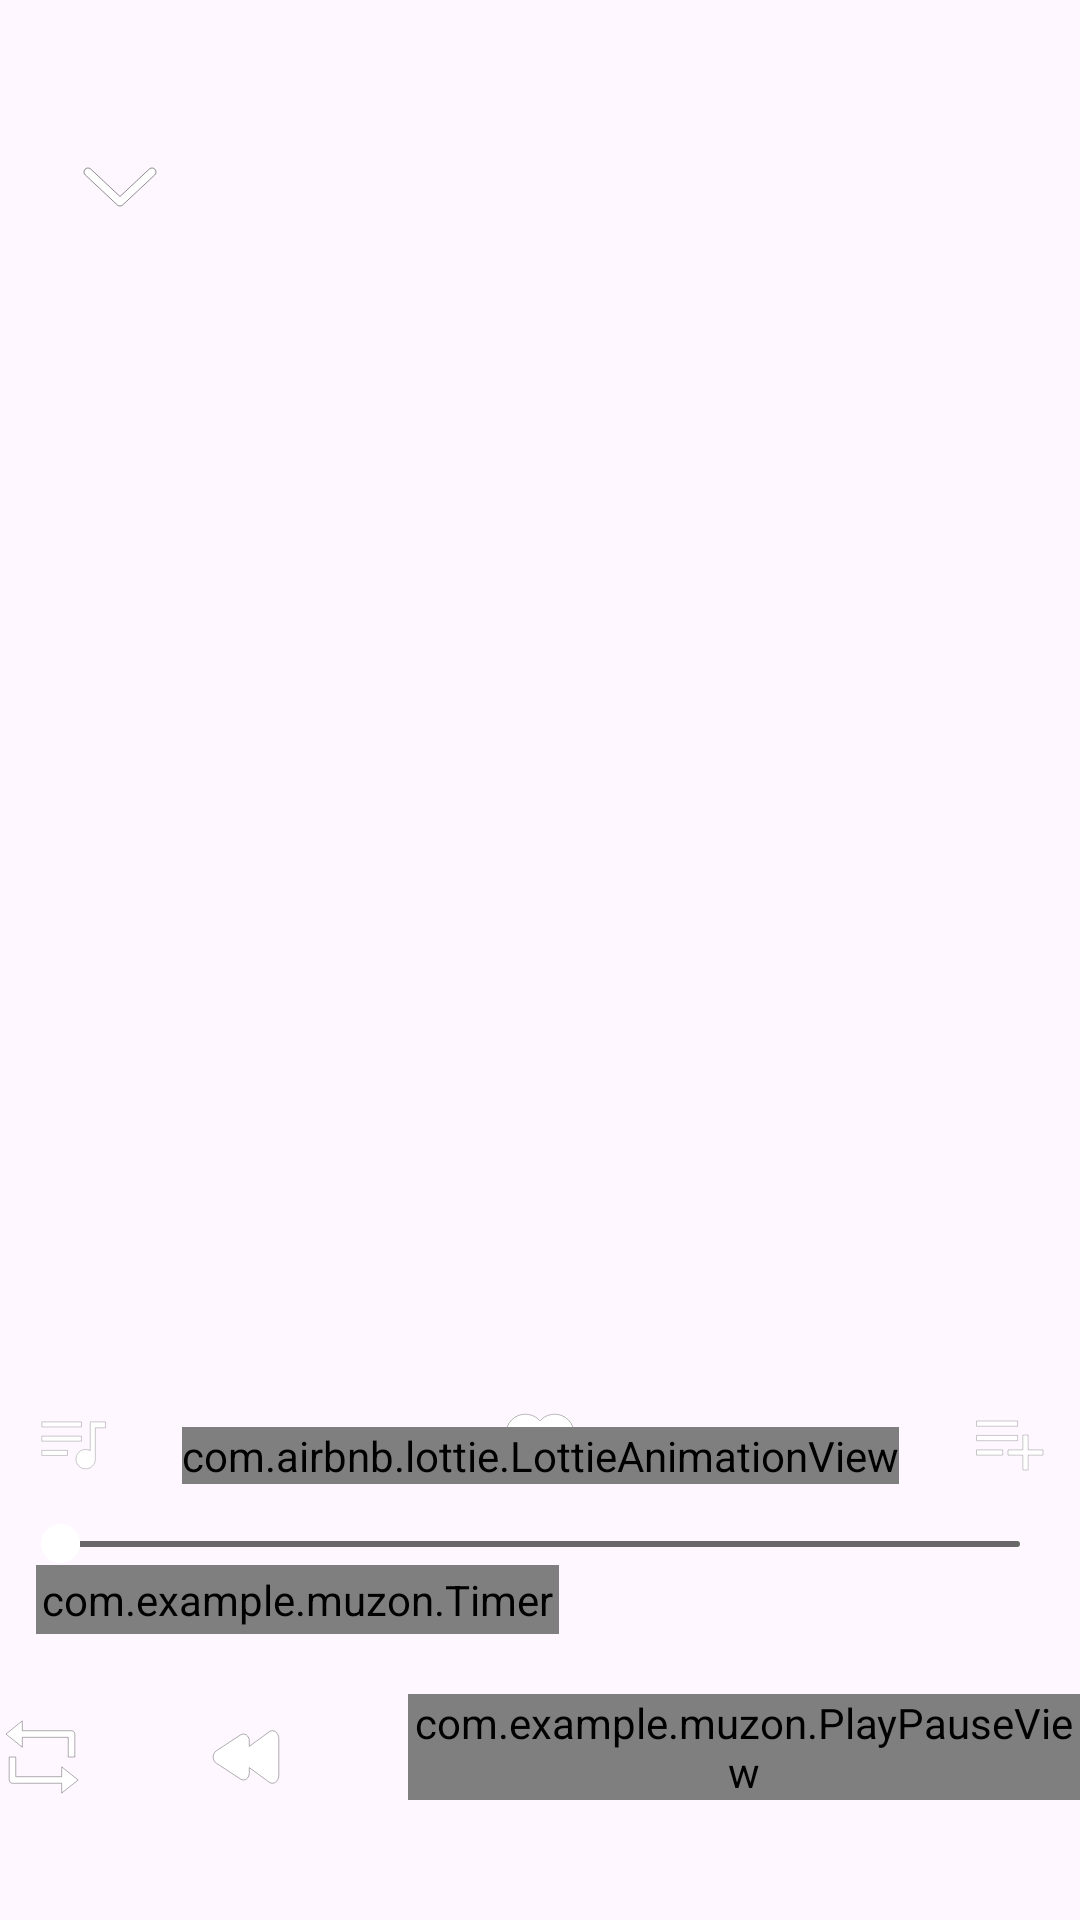

Icon bounding boxes for this 1080 x 1920 phone screenshot, format (x1, y1, x2, y2):
add: (976, 1420, 1044, 1471)
arrow: (83, 167, 157, 207)
playlist: (41, 1421, 106, 1469)
repeat: (6, 1721, 78, 1793)
rewind back: (213, 1730, 280, 1784)
